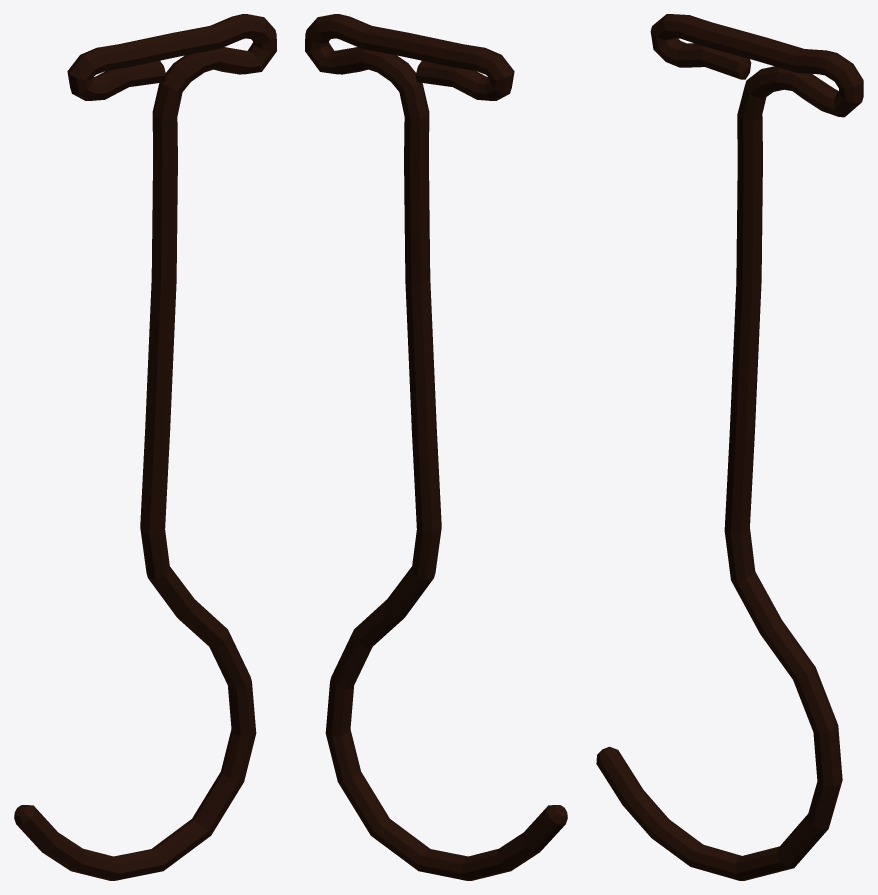
Rendered from hook.obj.
The picture shows the model from 3 angles, left to right: view 1: azimuth 30°, elevation 25°; view 2: azimuth 150°, elevation 25°; view 3: azimuth 330°, elevation 25°; orthographic projection.
Parts seen in each view (by area): view 1: product-ac1e8b2f-9d31-43ca-b489-36c24f54b396-body; view 2: product-ac1e8b2f-9d31-43ca-b489-36c24f54b396-body; view 3: product-ac1e8b2f-9d31-43ca-b489-36c24f54b396-body.
Boxes of the visible parts, box(x1,y1,x2,y2) form: product-ac1e8b2f-9d31-43ca-b489-36c24f54b396-body: box(14, 14, 276, 880); product-ac1e8b2f-9d31-43ca-b489-36c24f54b396-body: box(305, 14, 567, 880); product-ac1e8b2f-9d31-43ca-b489-36c24f54b396-body: box(596, 14, 863, 880).
Bounding box in the file's own units: 0.1631 × 0.503 × 0.014.
